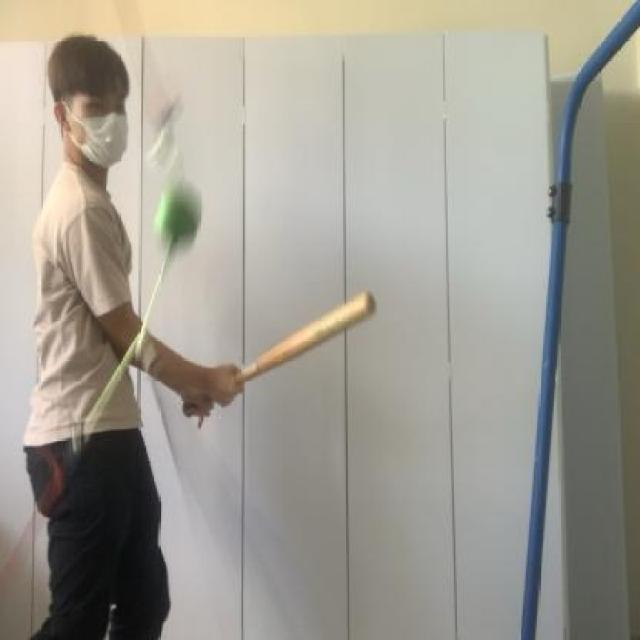baseball: (147, 183, 207, 266)
